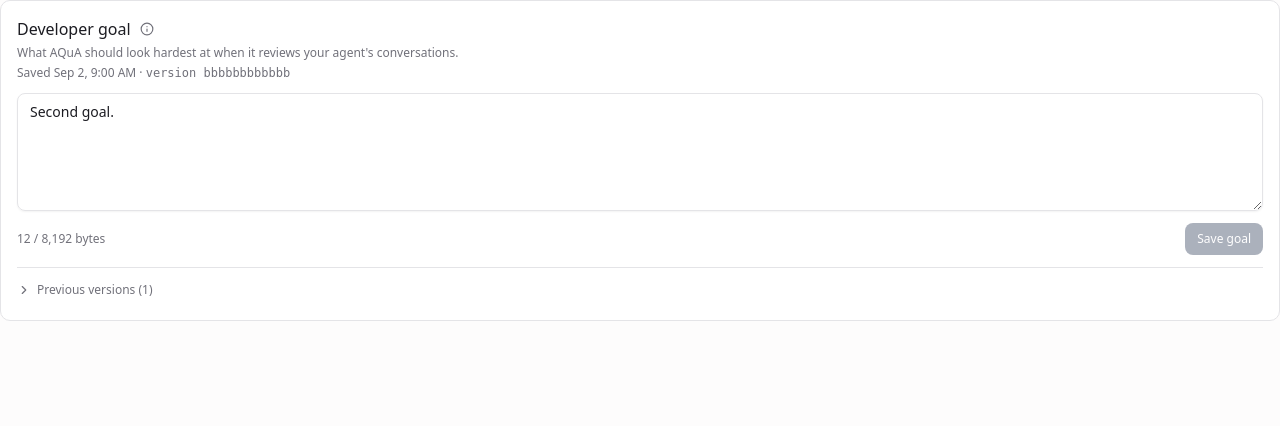
GoalCard history › does not restore over unsaved edits
Type " edited" into the text box showing "Second goal." at (640,152), box [17, 93, 1263, 211]
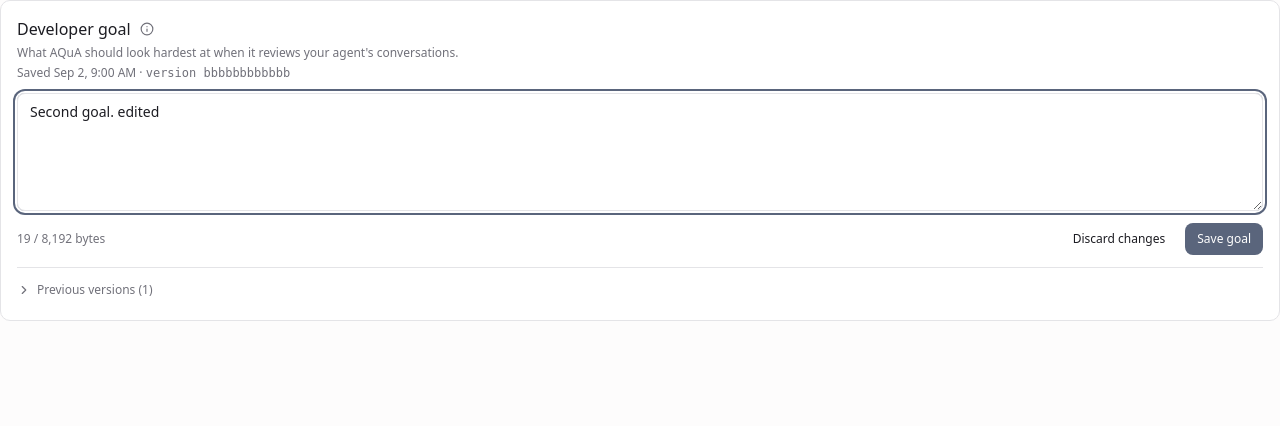
Click the button "Previous versions (1)" at (90,290), box [9, 276, 1271, 304]
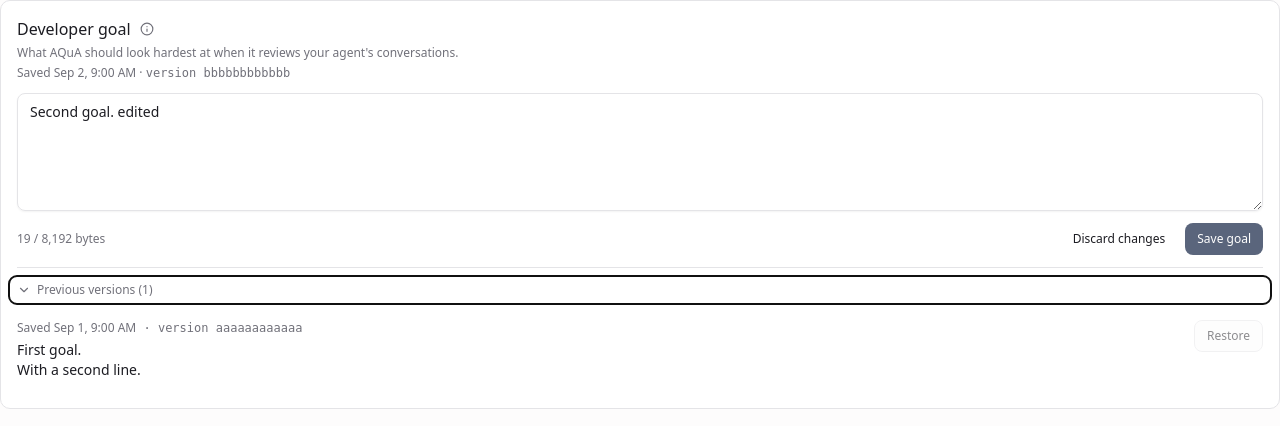
Check: the button with aria-label "Restore version aaaaaaaaaaaa" is disabled, box [1194, 320, 1263, 352]
